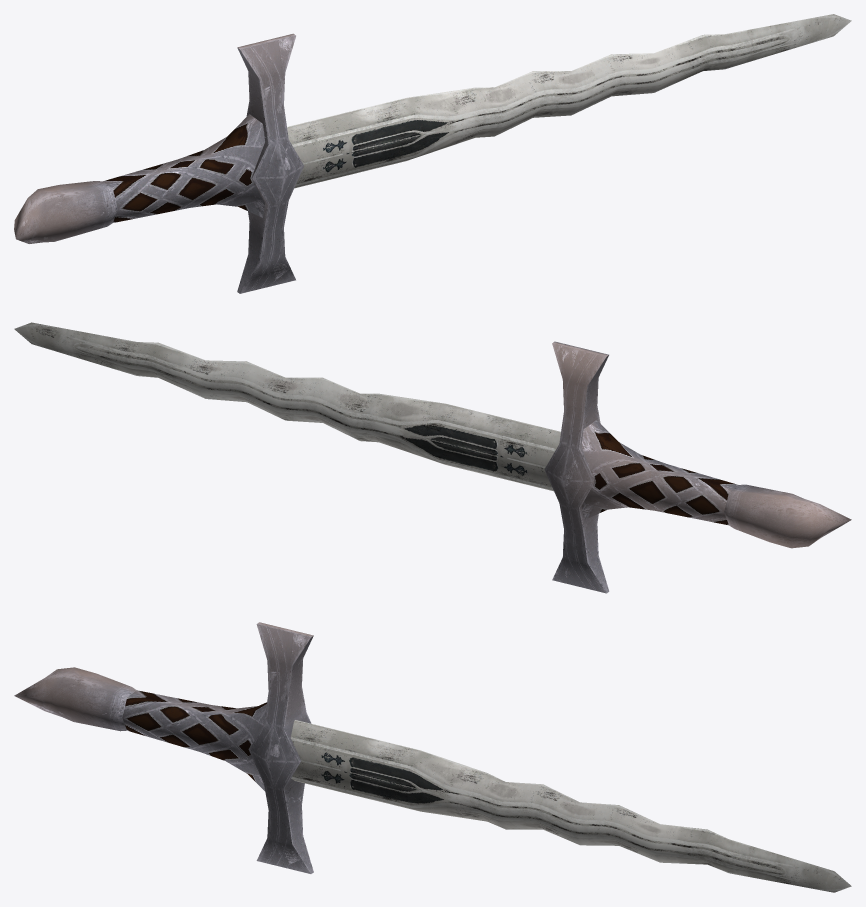
The model's file is Corvus_Dagger.FBX.
3 renders of one model, top to bottom at view 1: azimuth 30°, elevation 25°; view 2: azimuth 150°, elevation 25°; view 3: azimuth 330°, elevation 25°, orthographic. The views are drawn at different scales.
Parts seen in each view (by area): view 1: CharacterWeaponsDagger_Mesh; view 2: CharacterWeaponsDagger_Mesh; view 3: CharacterWeaponsDagger_Mesh.
Part boxes in pixels (x1,y1,x2,y2): CharacterWeaponsDagger_Mesh: [14, 14, 851, 293]; CharacterWeaponsDagger_Mesh: [14, 322, 851, 593]; CharacterWeaponsDagger_Mesh: [14, 622, 851, 892].
Size of the model in its own units: 56.45 by 15.5 by 4.32.
